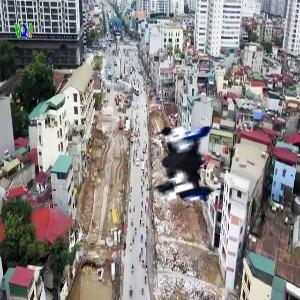drone: (136, 84, 281, 229)
